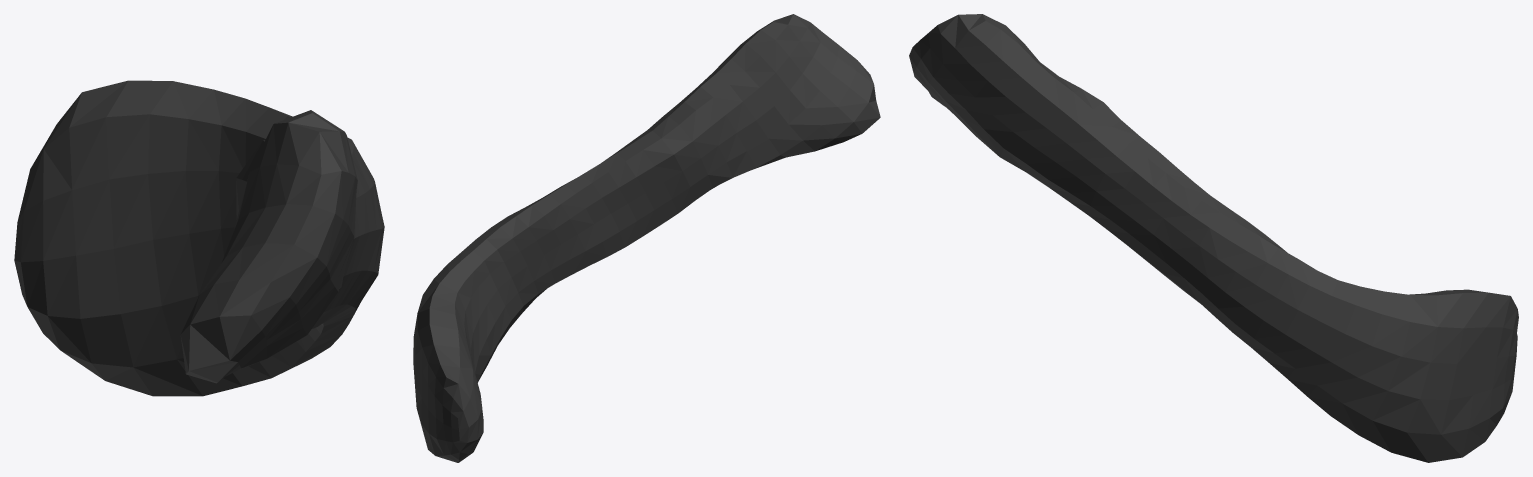
File: Cranial_ligament_of_fibular_head.glb
3 views of the same model, side by side, from view 1: azimuth 30°, elevation 25°; view 2: azimuth 150°, elevation 25°; view 3: azimuth 270°, elevation 25° (orthographic). The views are drawn at different scales.
Visible parts, largest first — view 1: Cranial_ligament_of_fibular_head; view 2: Cranial_ligament_of_fibular_head; view 3: Cranial_ligament_of_fibular_head.
Part boxes in pixels (bbox=[...]): Cranial_ligament_of_fibular_head: bbox=[14, 80, 384, 396]; Cranial_ligament_of_fibular_head: bbox=[413, 14, 880, 462]; Cranial_ligament_of_fibular_head: bbox=[909, 14, 1518, 462].
Size of the model in its own units: 0.0639 by 0.0738 by 0.1114.
1 material, 1 textured.
